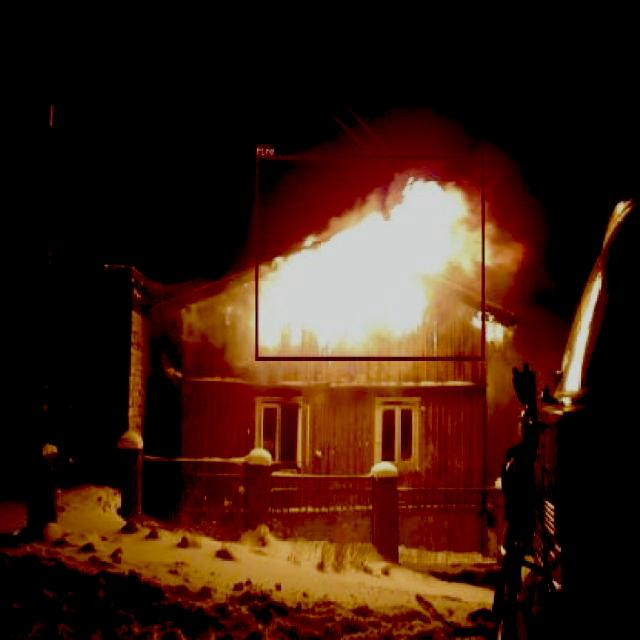fire: (255, 154, 483, 360)
